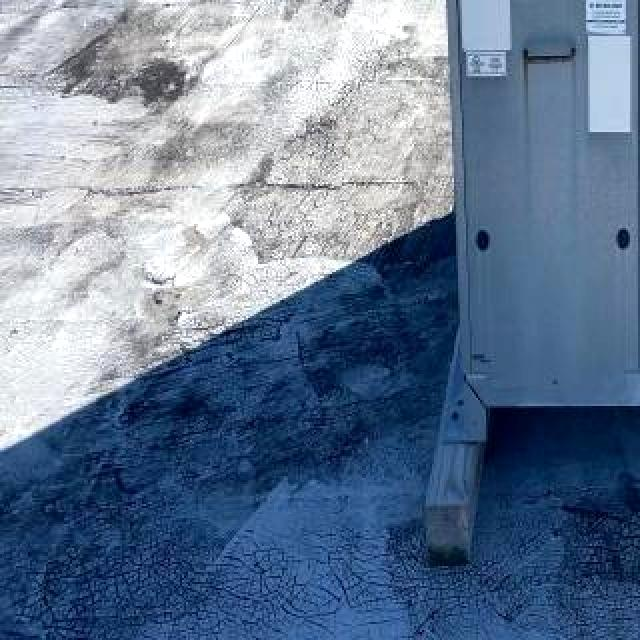SPLIT-SYSTEM: (408, 0, 640, 436)
